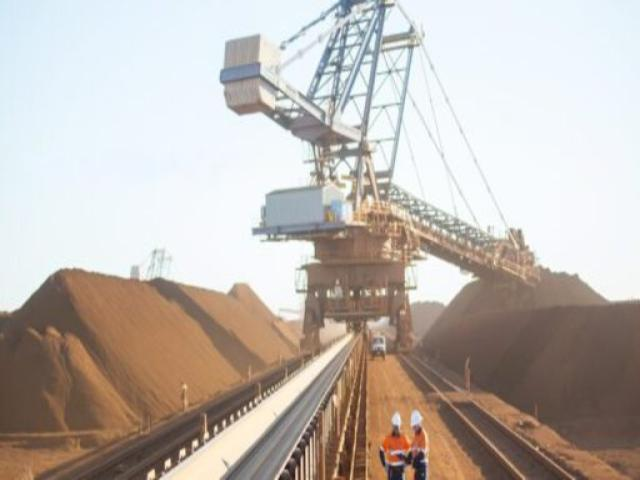conveyor: (6, 325, 360, 480)
